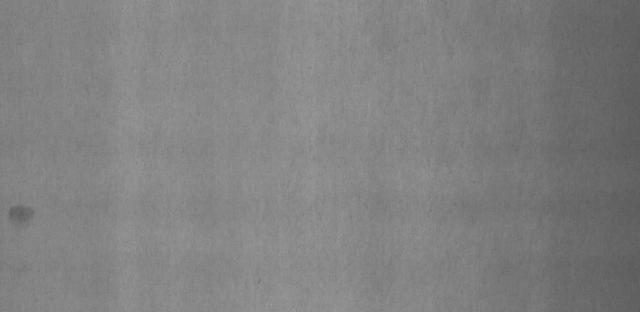oil_spot: (7, 201, 37, 232)
